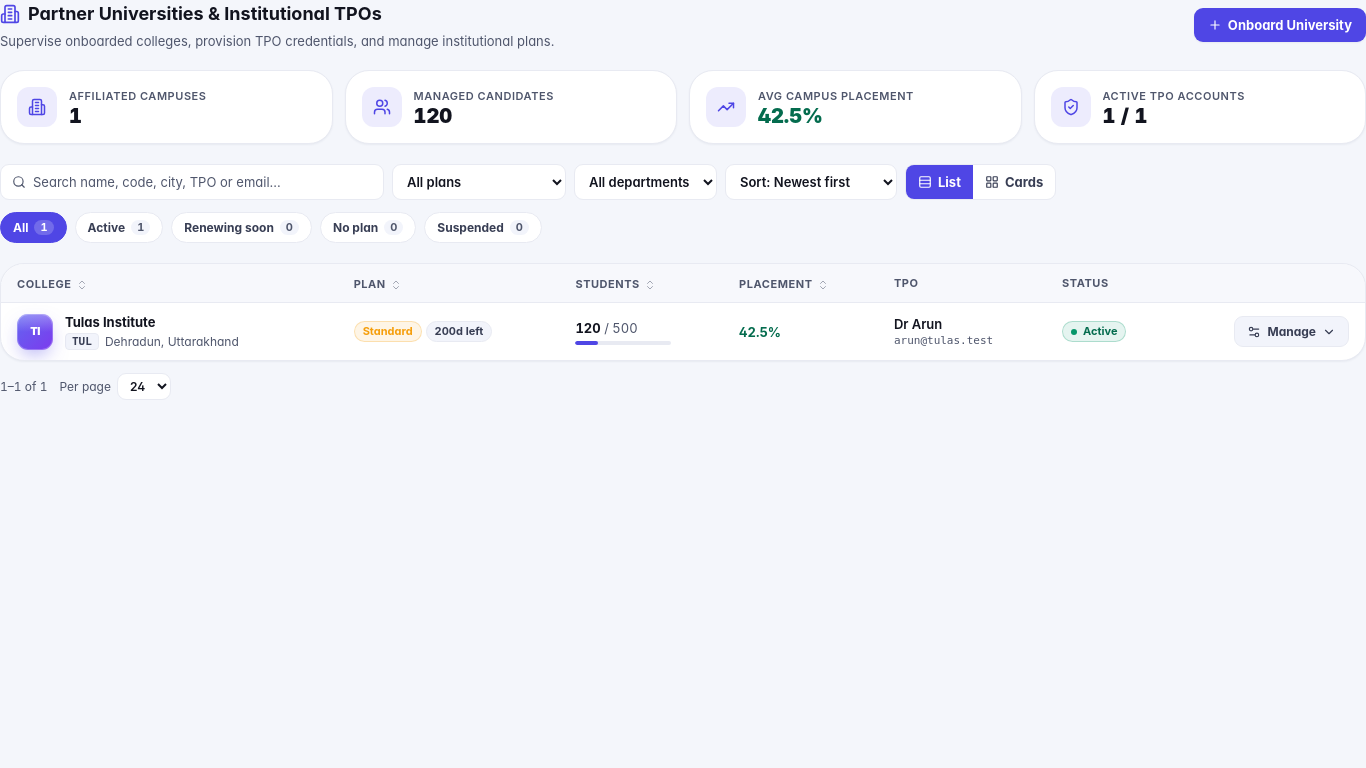
Test: PartnerCollegesPanel superadmin tools › opens the password dialog for the TPO of that college
Expected: the text "Tulas Institute" is shown, [65,314,155,330]
Click the button with aria-label "manage tulas institute" at (1292, 332), box [1234,316,1349,347]
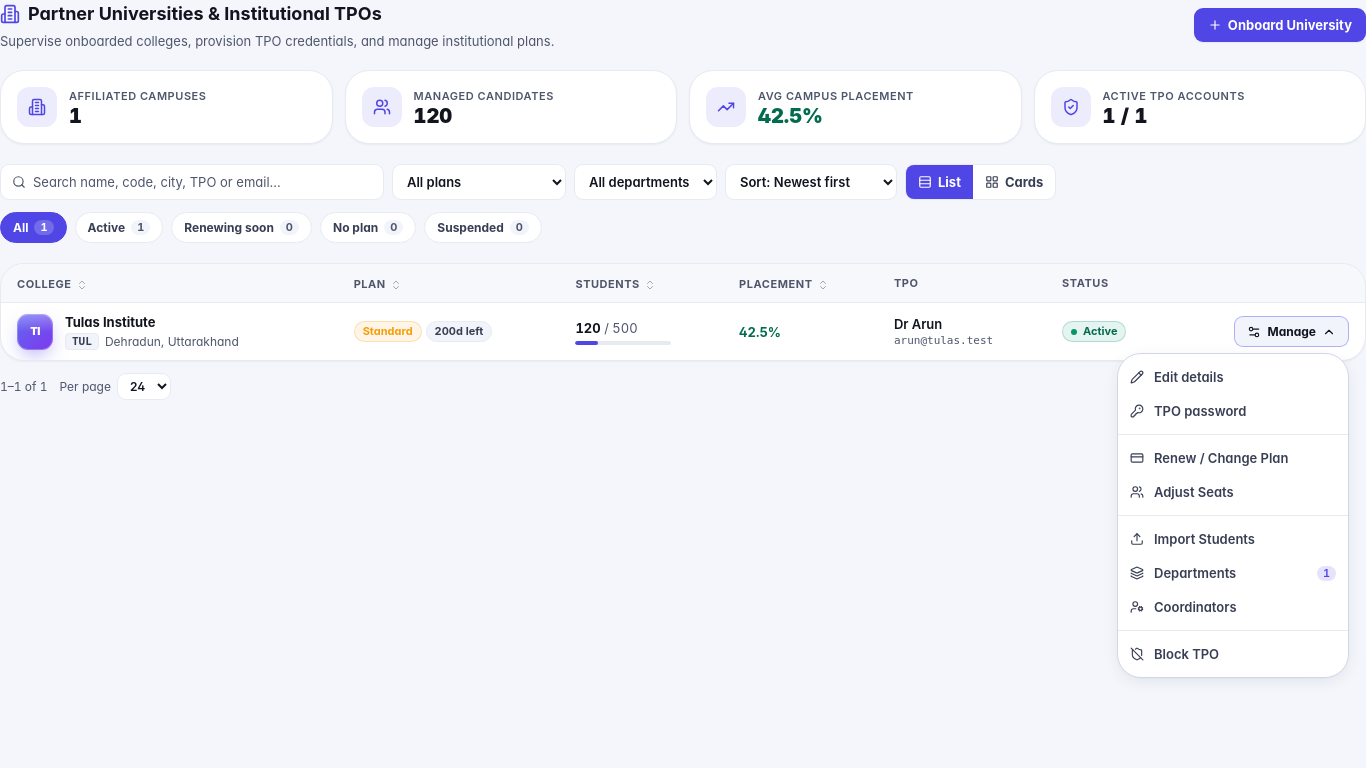
Click the menu item "TPO password" at (1233, 411), box [1118,394,1348,428]
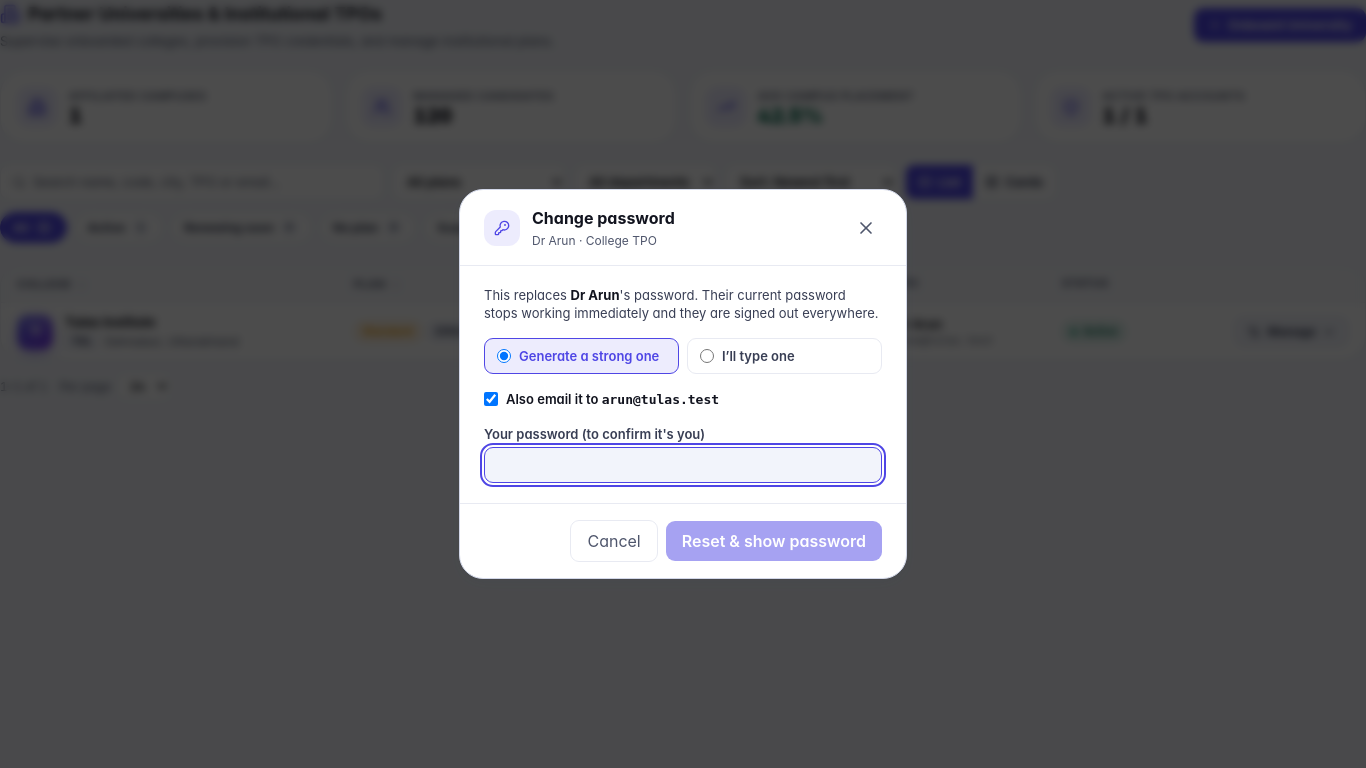
Result: the text "replaces" is shown at [484,287,571,303]
Result: the text "Dr Arun" is shown at [571,287,620,303]
